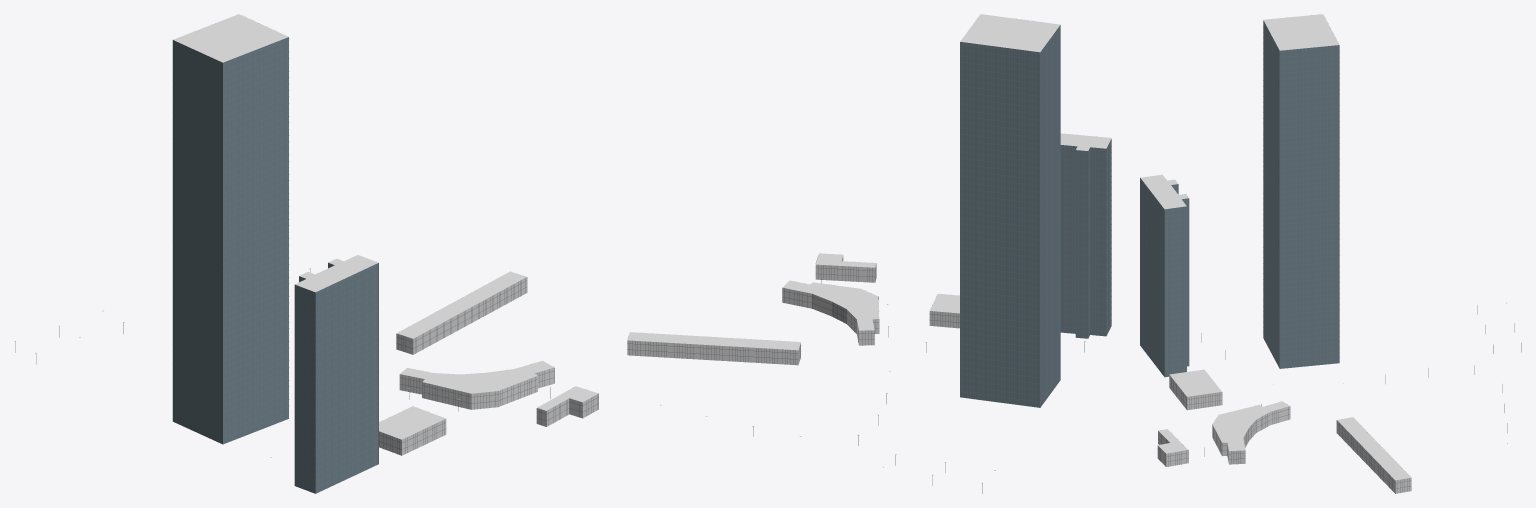
3 renders of one model, left to right at view 1: azimuth 30°, elevation 25°; view 2: azimuth 150°, elevation 25°; view 3: azimuth 270°, elevation 25°, orthographic. The views are drawn at different scales.
Visible parts, largest first — view 1: 4_0_超高层蓝灰幕墙, 4_0_城市金属细框, 4_0_v02 深灰屋面, 4_0_v02 米白石材; view 2: 4_0_超高层蓝灰幕墙, 4_0_城市金属细框, 4_0_v02 深灰屋面, 4_0_v02 米白石材; view 3: 4_0_超高层蓝灰幕墙, 4_0_城市金属细框, 4_0_v02 深灰屋面, 4_0_v02 米白石材.
Boxes of the visible parts, <box> form: 4_0_超高层蓝灰幕墙: <box>173,37,378,493</box>; 4_0_城市金属细框: <box>172,38,598,492</box>; 4_0_v02 深灰屋面: <box>173,14,598,439</box>; 4_0_v02 米白石材: <box>379,277,598,455</box>; 4_0_超高层蓝灰幕墙: <box>960,25,1111,407</box>; 4_0_城市金属细框: <box>627,27,1111,407</box>; 4_0_v02 深灰屋面: <box>627,14,1111,350</box>; 4_0_v02 米白石材: <box>627,256,959,365</box>; 4_0_超高层蓝灰幕墙: <box>1140,20,1339,377</box>; 4_0_城市金属细框: <box>1140,22,1410,493</box>; 4_0_v02 深灰屋面: <box>1140,14,1410,480</box>; 4_0_v02 米白石材: <box>1157,375,1411,493</box>.
Bounding box in the file's own units: 290 × 237 × 258.
